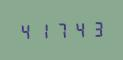four: (69, 19, 85, 39), (18, 21, 34, 40)
one: (35, 20, 51, 40)
seven: (52, 20, 68, 39)
three: (86, 19, 102, 38)
